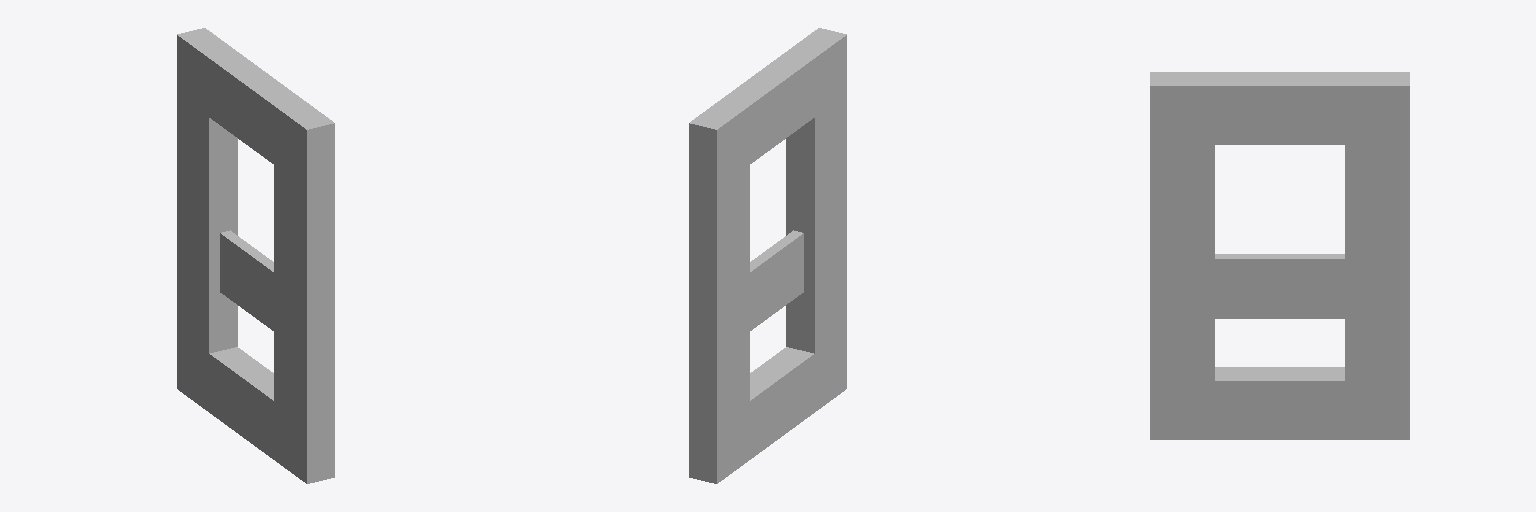
The model's file is spaceInterior_072.obj.
The picture shows the model from 3 angles: view 1: azimuth 30°, elevation 25°; view 2: azimuth 150°, elevation 25°; view 3: azimuth 270°, elevation 25°; orthographic projection.
Parts seen in each view (by area): view 1: Mesh1 Group1 Model; view 2: Mesh1 Group1 Model; view 3: Mesh1 Group1 Model.
Boxes of the visible parts, x1=… form: Mesh1 Group1 Model: x1=177, y1=28, x2=334, y2=483; Mesh1 Group1 Model: x1=689, y1=28, x2=846, y2=483; Mesh1 Group1 Model: x1=1150, y1=72, x2=1409, y2=439.
Bounding box in the file's own units: 0.0625 × 0.75 × 0.5.